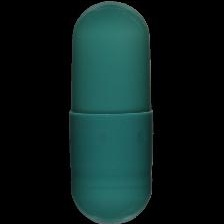54868-5126: (0, 0, 224, 224)
